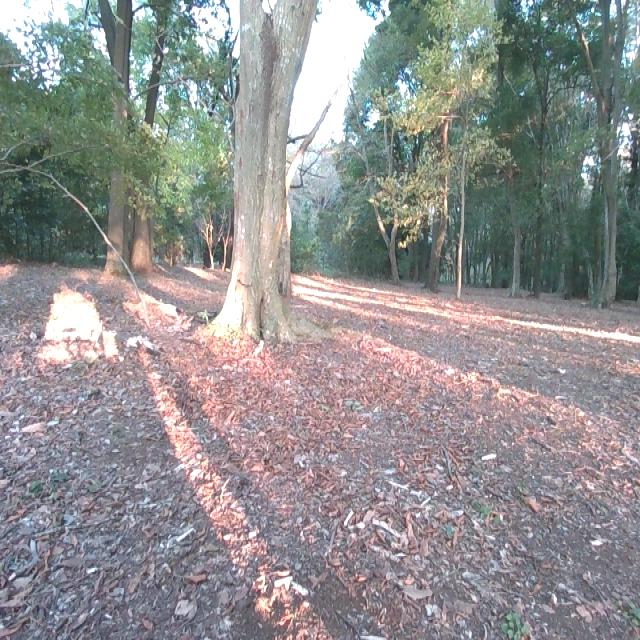tree: (213, 0, 317, 333), (583, 0, 622, 312), (97, 0, 132, 273), (135, 0, 169, 279), (426, 4, 451, 296), (388, 154, 404, 292)
